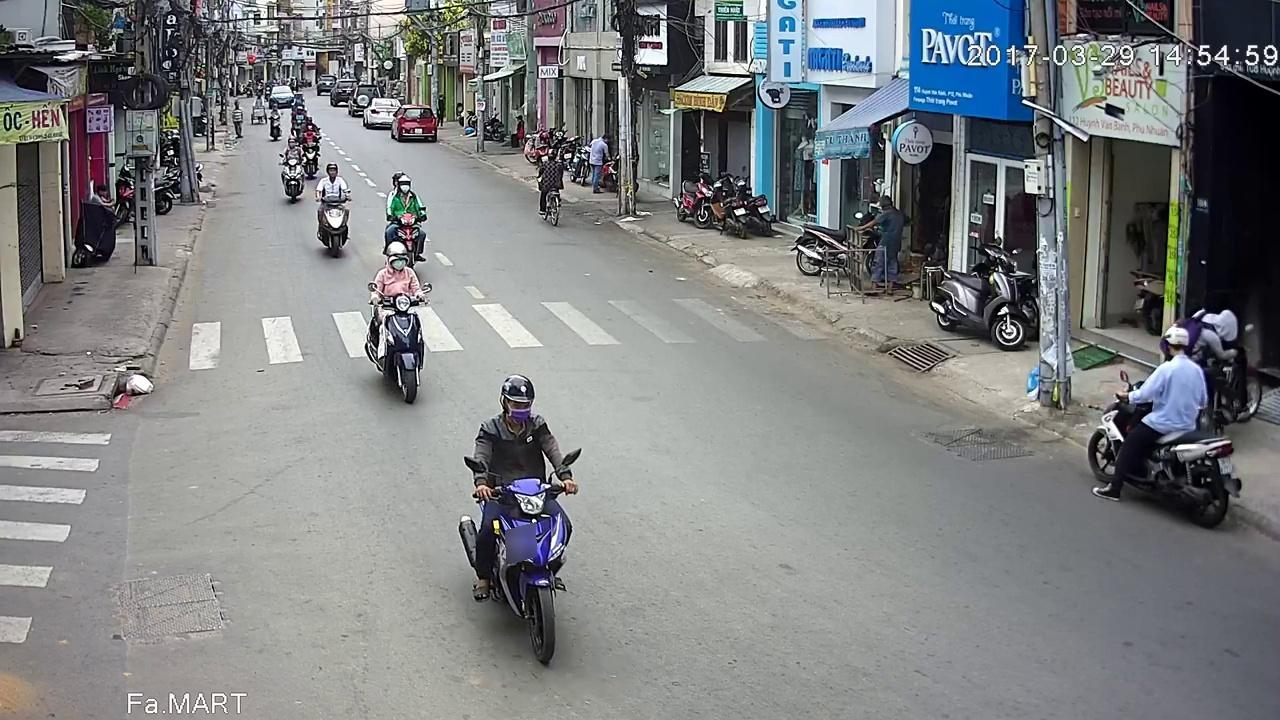xe dap: (537, 148, 565, 225)
xe hoi: (392, 106, 437, 143)
xe may: (457, 309, 583, 598), (1083, 327, 1239, 530), (365, 243, 434, 406), (378, 172, 422, 269), (315, 165, 351, 261), (278, 140, 307, 207), (299, 120, 319, 174)
